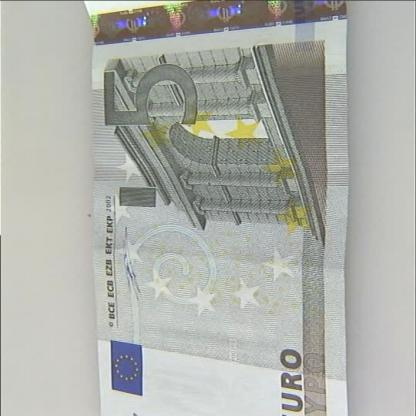euro_banknote: (10, 76, 416, 342)
